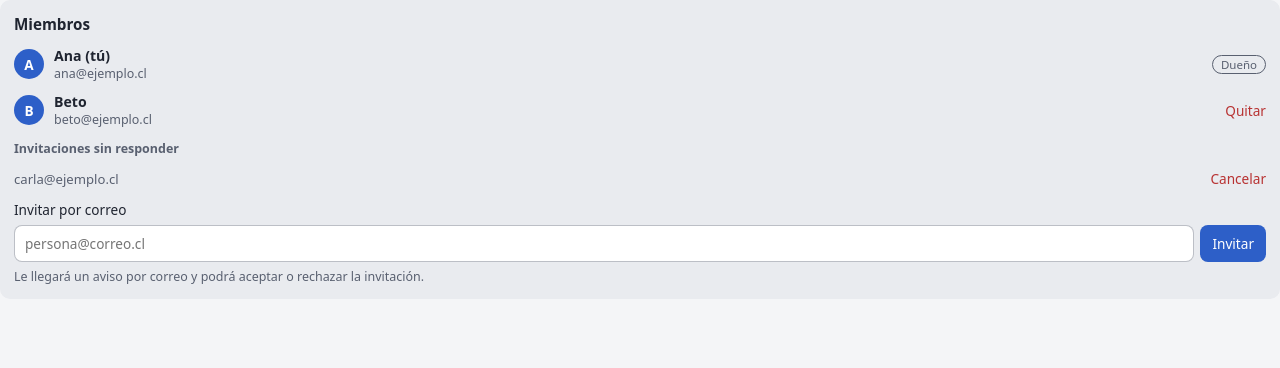
panel de miembros (dueño) › valida el correo antes de invitar
The width and height of the screenshot is (1280, 368).
Type "no-es-correo" into the field labelled "Invitar por correo".
click(604, 244); type("no-es-correo")  # box [14,225,1194,262]
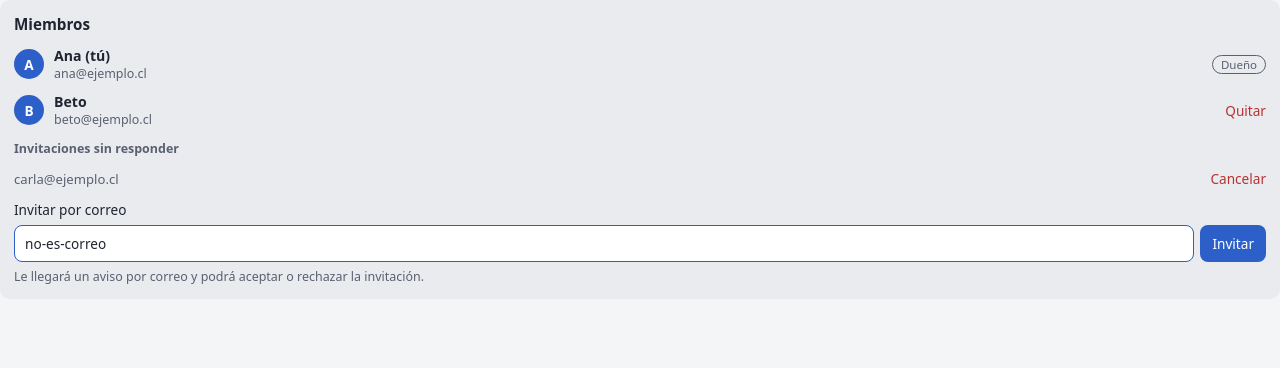
Click the button "Invitar".
click(1233, 244)  # box [1200,225,1266,262]
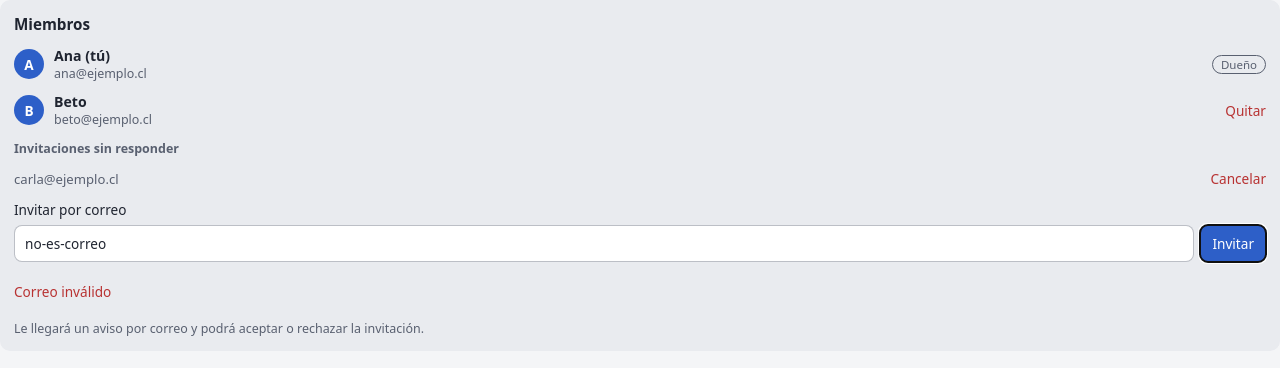
Expected: the text "Correo inválido" is shown, [14,282,111,301]
